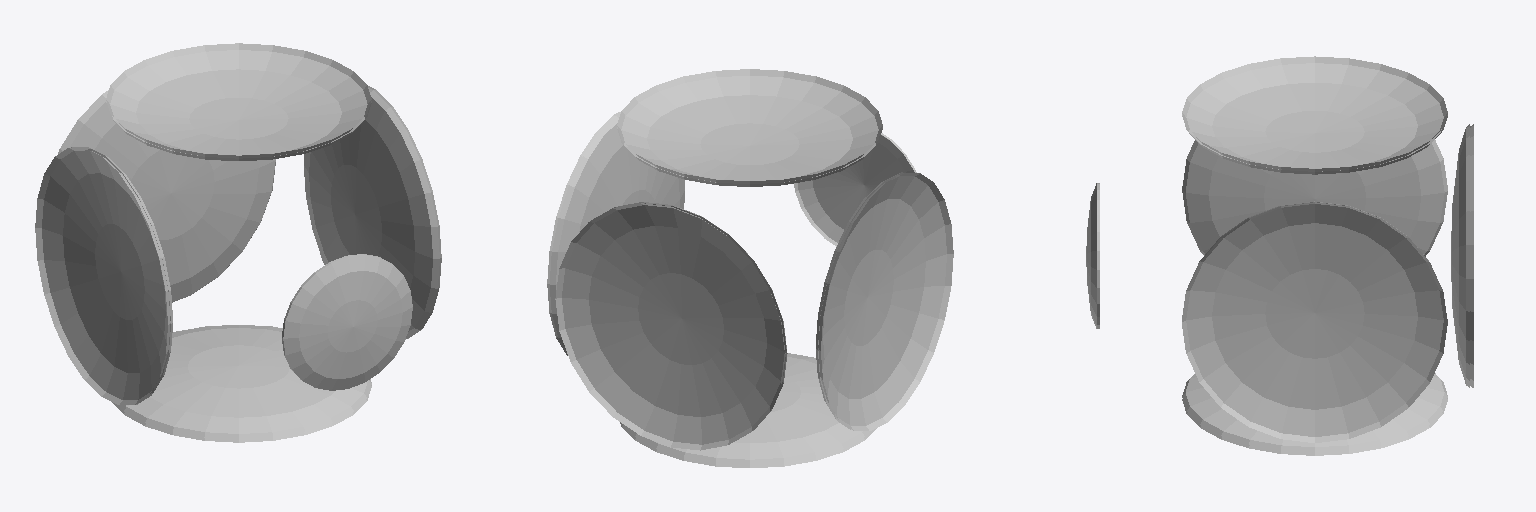
Rendered from reflection_cube_lense.obj.
3 views of the same model, side by side, from view 1: azimuth 30°, elevation 25°; view 2: azimuth 150°, elevation 25°; view 3: azimuth 270°, elevation 25° (orthographic).
Visible parts, largest first — view 1: reflection_cube:reflecto_cube_glass; view 2: reflection_cube:reflecto_cube_glass; view 3: reflection_cube:reflecto_cube_glass.
Part boxes in pixels (left/top/right/bottom): reflection_cube:reflecto_cube_glass: left=35, top=43, right=441, bottom=442; reflection_cube:reflecto_cube_glass: left=547, top=69, right=953, bottom=467; reflection_cube:reflecto_cube_glass: left=1086, top=56, right=1473, bottom=455.
Size of the model in its own units: 27.94 by 28.02 by 34.31.